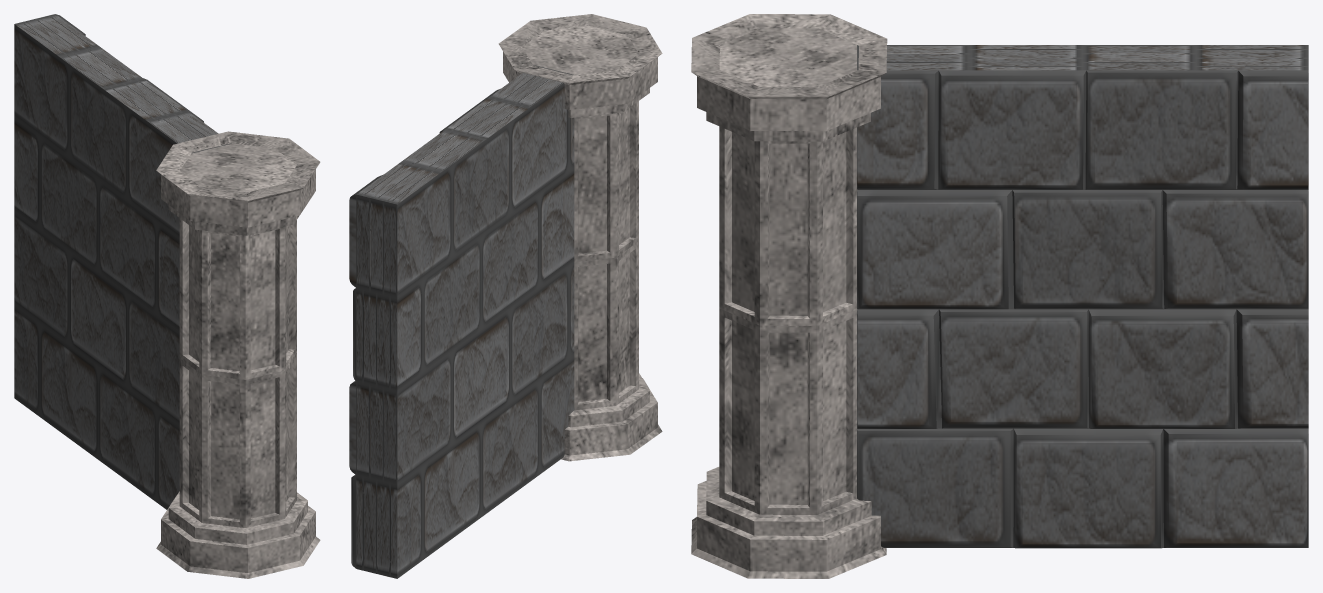
Rendered from wallShort.fbx.
3 renders of one model, left to right at view 1: azimuth 30°, elevation 25°; view 2: azimuth 150°, elevation 25°; view 3: azimuth 270°, elevation 25°, orthographic. The views are drawn at different scales.
Visible parts, largest first — view 1: wallShort, Pillar; view 2: wallShort, Pillar; view 3: wallShort, Pillar.
Boxes of the visible parts, x1,y1,x2,y2 form: wallShort: (14,14,231,509); Pillar: (156,131,320,578); wallShort: (349,65,574,578); Pillar: (498,14,662,461); wallShort: (857,45,1308,548); Pillar: (691,14,887,578).
Size of the model in its own units: 130 by 353 by 410.
2 materials, 2 textured.
